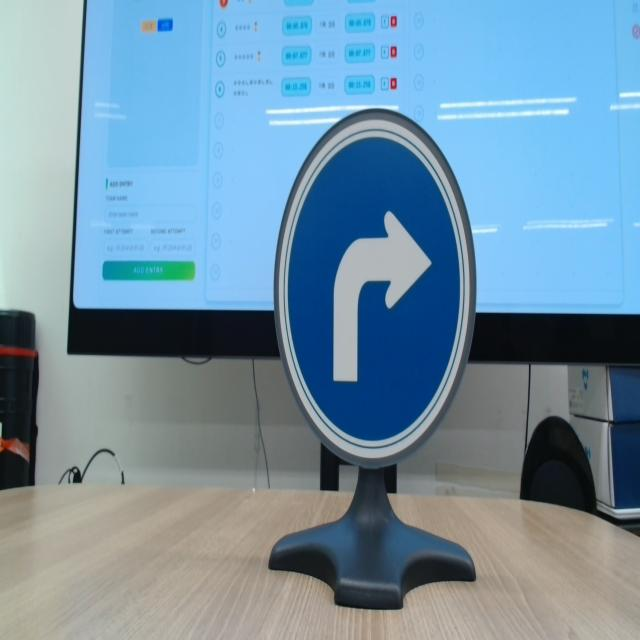right_dierection: (267, 98, 478, 471)
